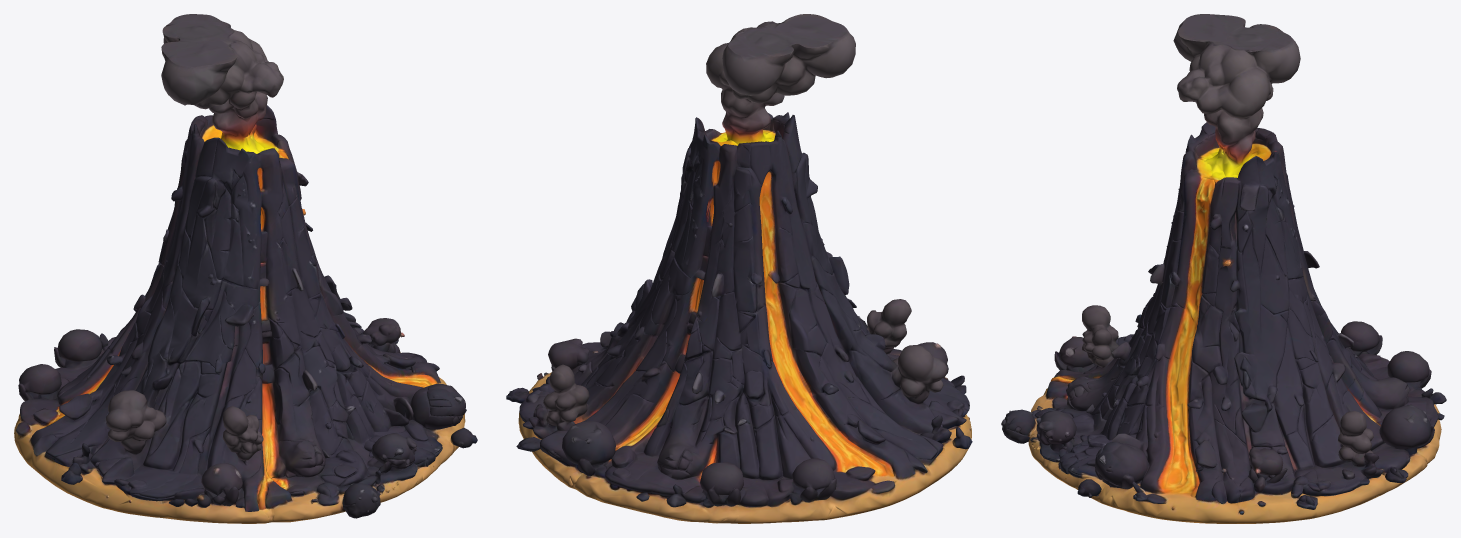
Rendered from isla-volcan.glb.
The picture shows the model from 3 angles, left to right: view 1: azimuth 30°, elevation 25°; view 2: azimuth 150°, elevation 25°; view 3: azimuth 270°, elevation 25°; orthographic projection. The views are drawn at different scales.
Size of the model in its own units: 0.9557 by 0.9319 by 0.9789.
Materials: 1 (1 with a texture image).
